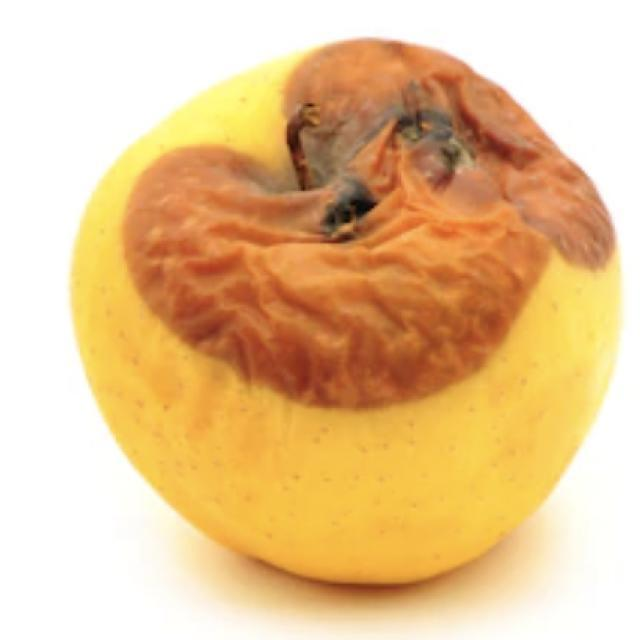Rotten: (73, 32, 615, 595)
